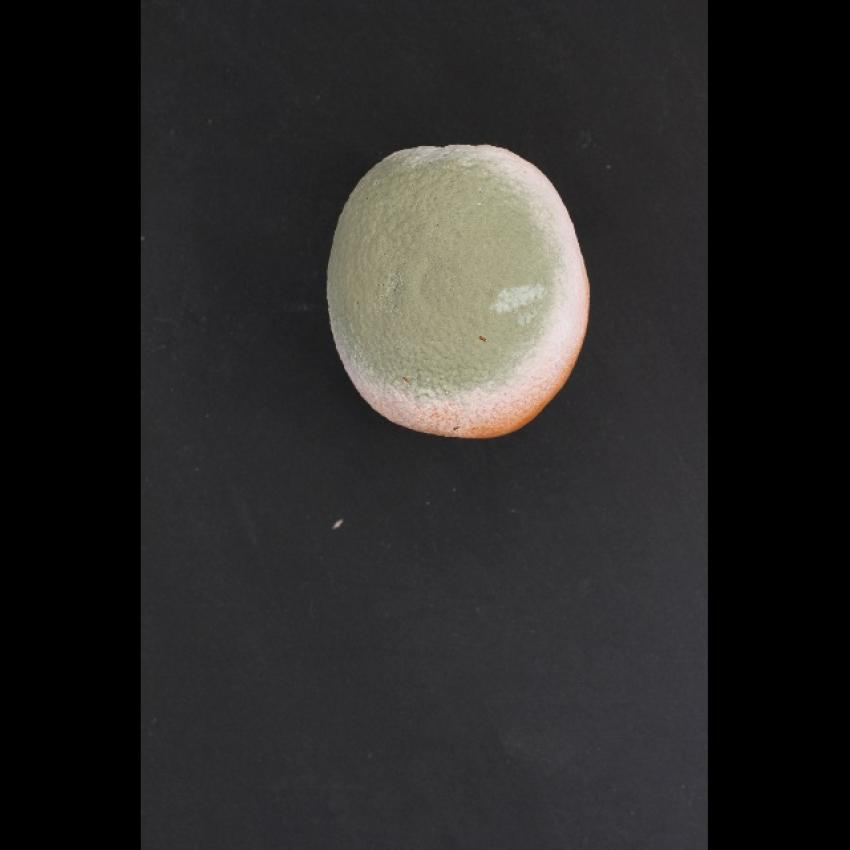Mal estado: (320, 129, 593, 443)
